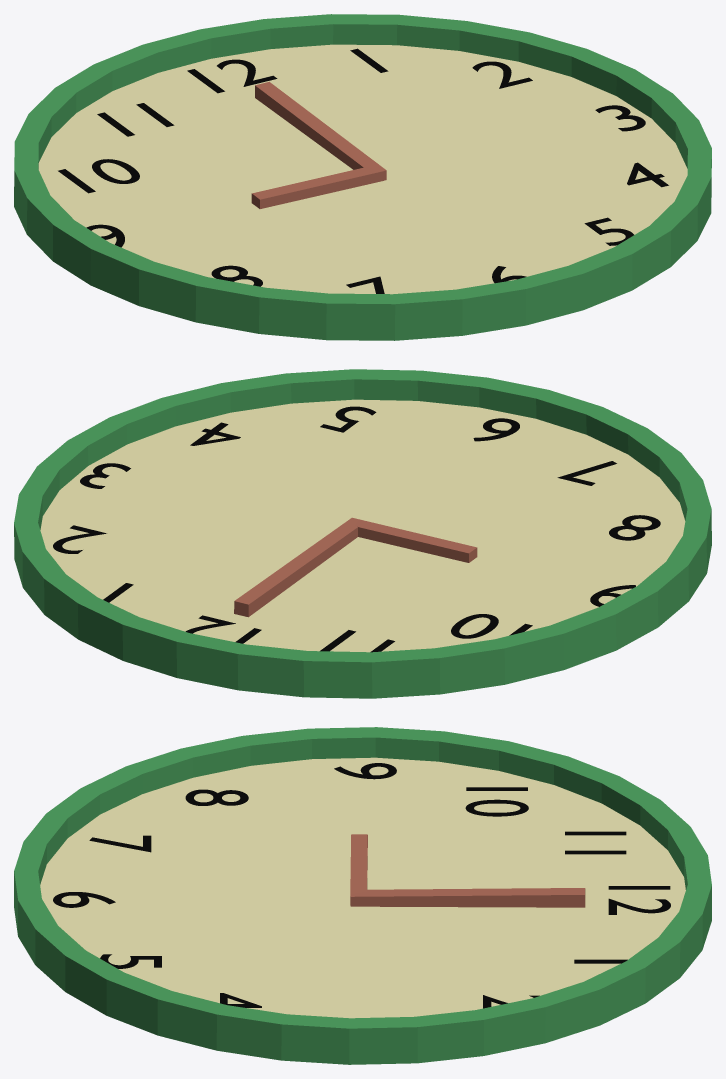
The model's file is jam dinding 9.fbx.
3 renders of one model, top to bottom at view 1: azimuth 30°, elevation 25°; view 2: azimuth 150°, elevation 25°; view 3: azimuth 270°, elevation 25°, orthographic.
Parts seen in each view (by area): view 1: Circle, Circle.001, Text, Cube.001, Cube.002; view 2: Circle, Circle.001, Text, Cube.001, Cube.002; view 3: Circle, Circle.001, Text, Cube.001, Cube.002.
Boxes of the visible parts, x1,y1,x2,y2 form: Circle: (38, 44, 687, 294); Circle.001: (14, 14, 711, 340); Text: (58, 48, 668, 293); Cube.001: (255, 81, 386, 180); Cube.002: (251, 167, 384, 208); Circle: (40, 399, 685, 652); Circle.001: (14, 369, 711, 698); Text: (53, 406, 660, 652); Cube.001: (234, 517, 358, 617); Cube.002: (355, 519, 477, 562); Circle: (40, 757, 685, 1018); Circle.001: (14, 727, 711, 1064); Text: (53, 763, 670, 1008); Cube.001: (350, 888, 585, 907); Cube.002: (350, 834, 367, 905).
Size of the model in its own units: 430 by 29.52 by 430.
